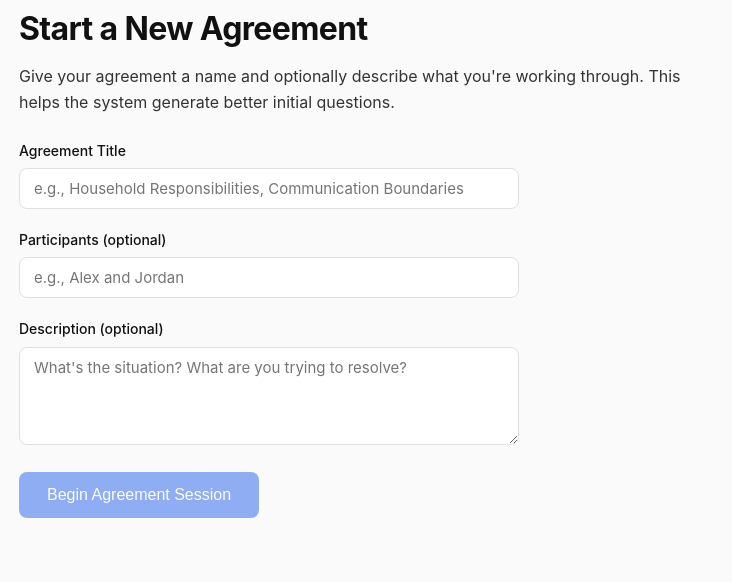
NewAgreement › displays error on API failure
This screenshot has width=732, height=582.
Type "Test" into the field labelled "Agreement Title" at (269, 188), box [19,168,519,209]
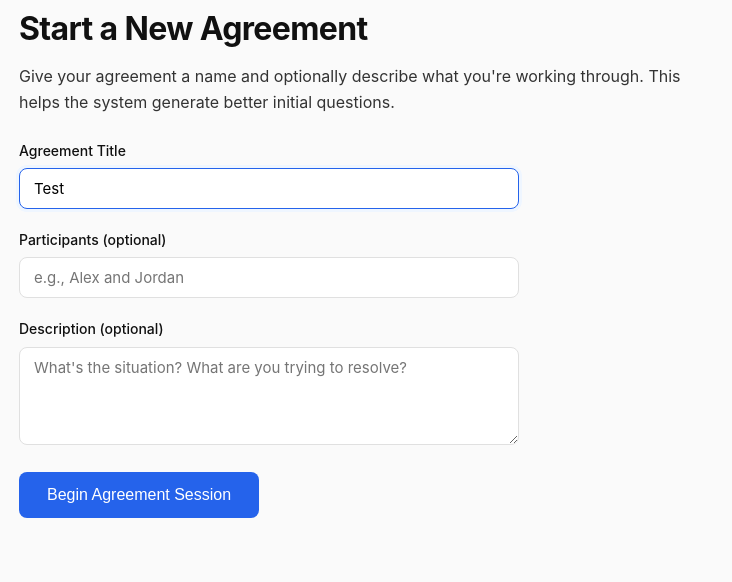
Click the button "Begin Agreement Session" at (139, 495), box [19,472,259,518]
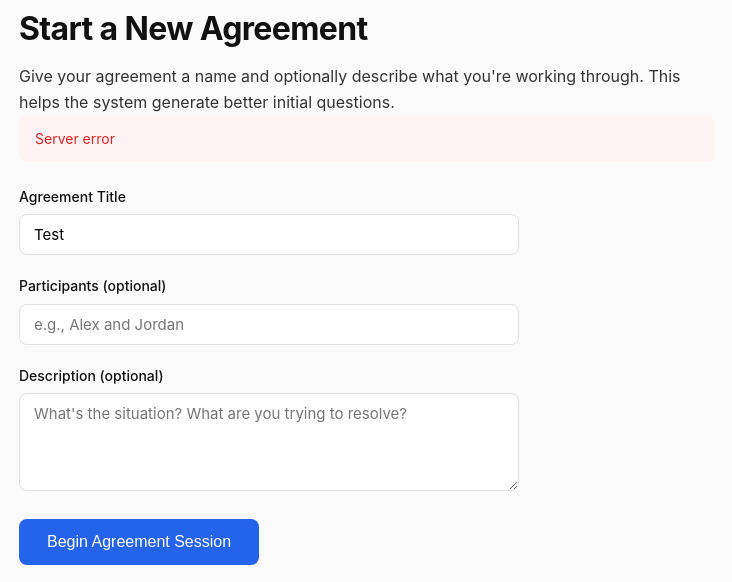
Expected: the text "Server error" is shown, [19,116,715,162]
